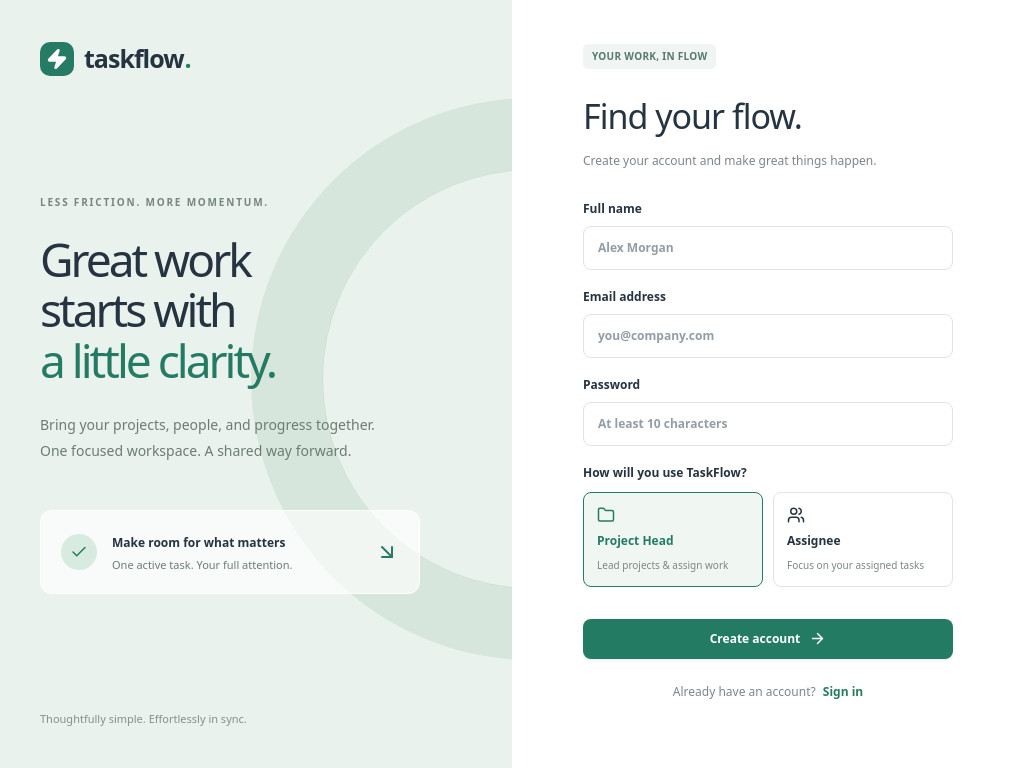
Scenario: Critical frontend flows › registers with an explicit mutually exclusive role
Expected: the heading "Find your flow." is shown, [583,92,802,138]
Type "Casey Chen" into the field labelled "Full name".
click(768, 248); type("Casey Chen")  # box [583,226,953,270]
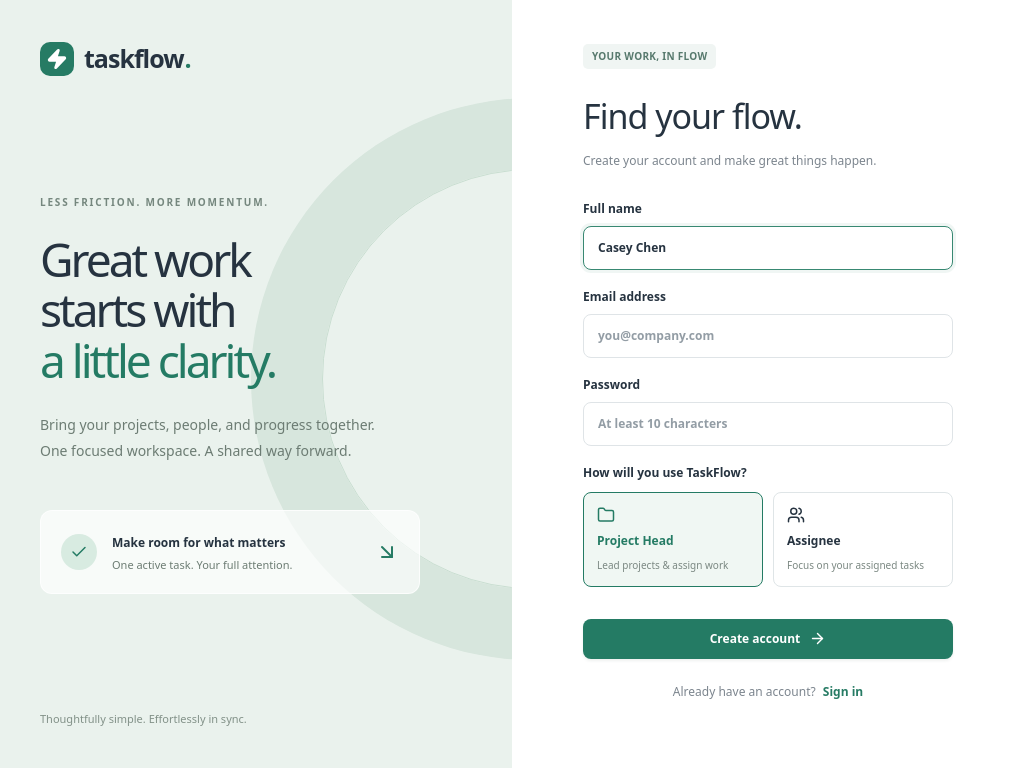
Type "casey@example.test" into the field labelled "Email address".
click(768, 336); type("casey@example.test")  # box [583,314,953,358]
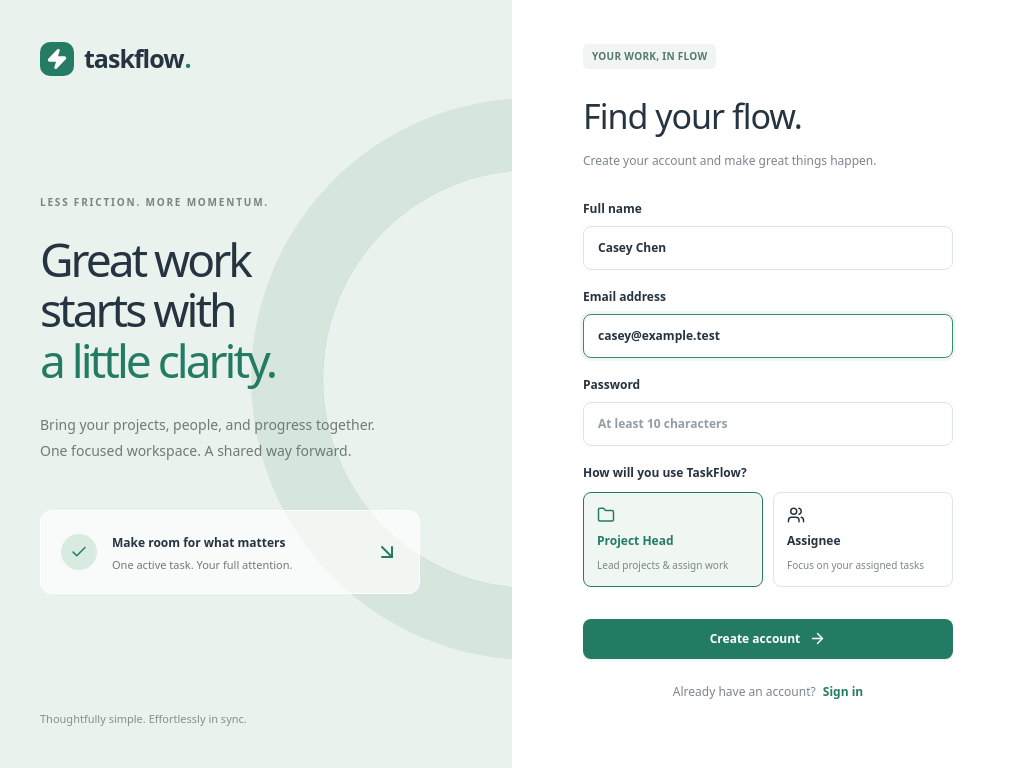
Type "SecurePass!2026" into the password field labelled "Password".
click(768, 424); type("SecurePass!2026")  # box [583,402,953,446]
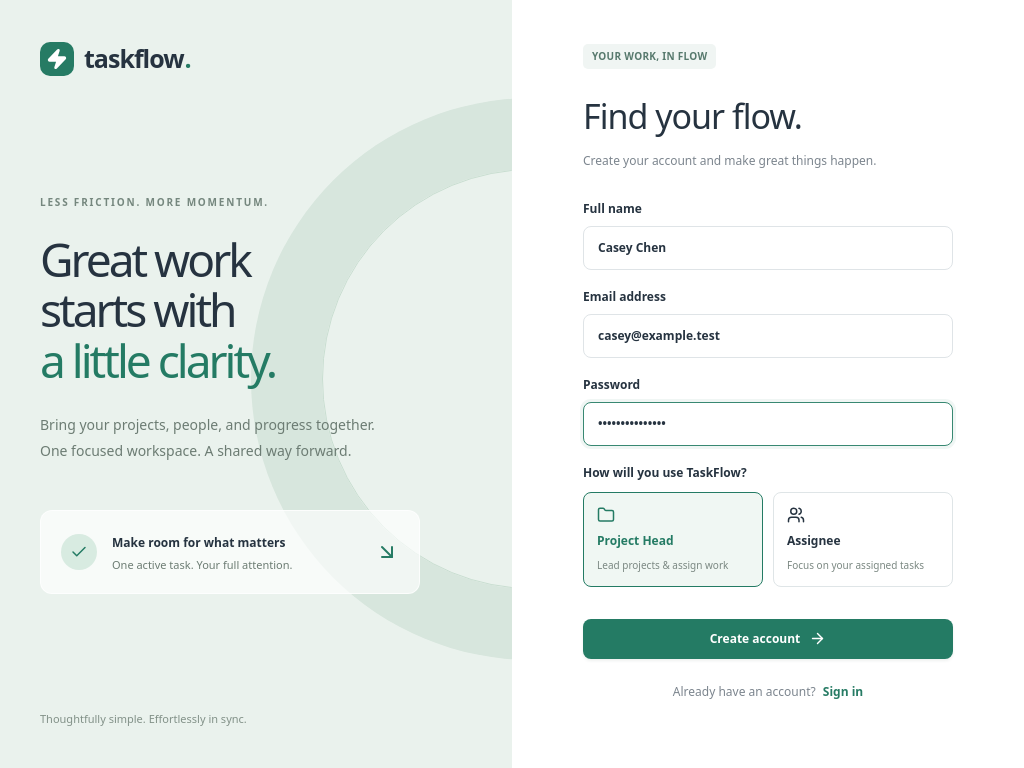
Click the button "Assignee Focus on your assigned tasks".
click(863, 539)  # box [773,492,953,586]
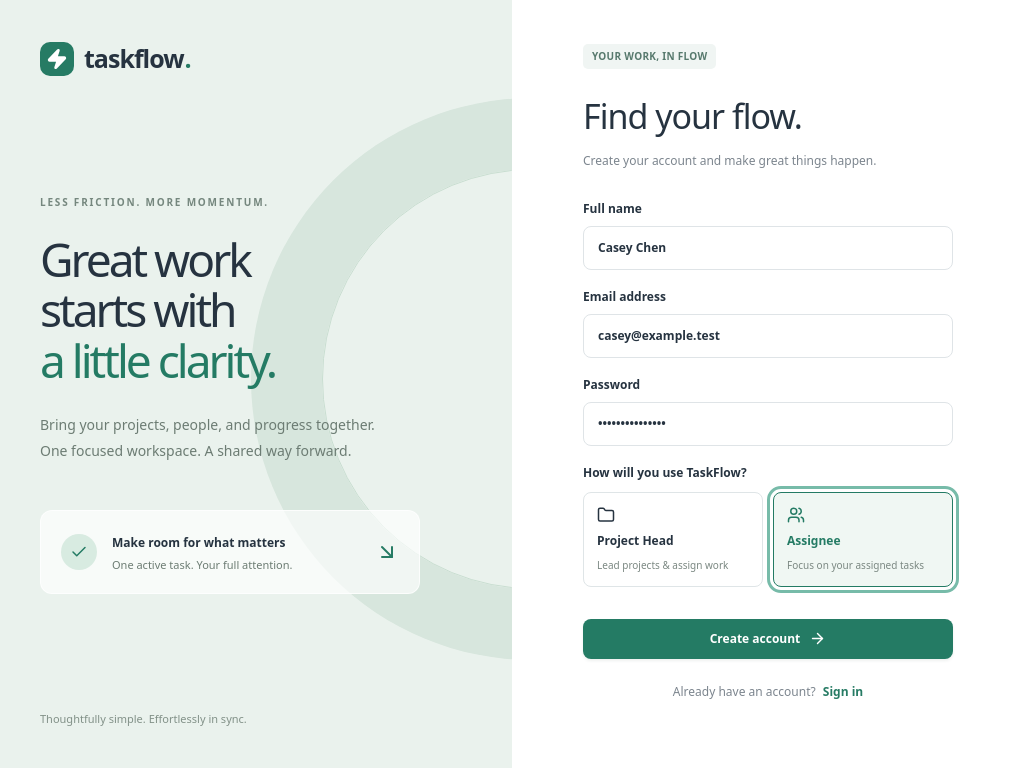
Click the button "Create account".
click(768, 638)  # box [583,618,953,658]
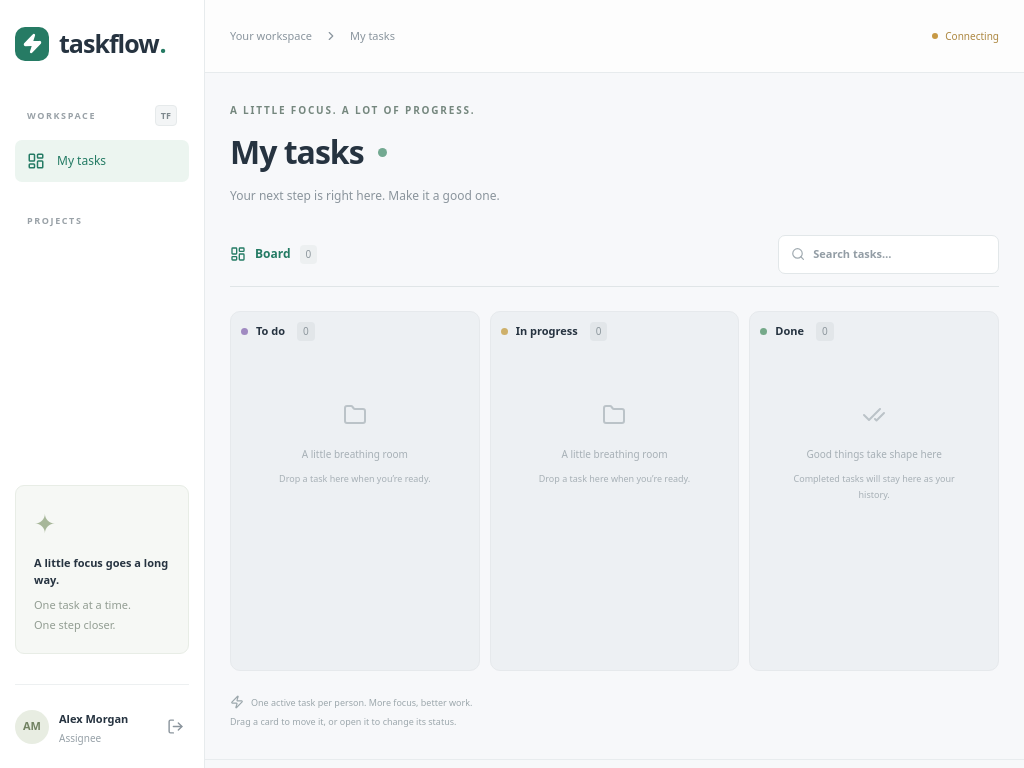
Expected: the heading "My tasks" is shown, [230,130,387,173]
